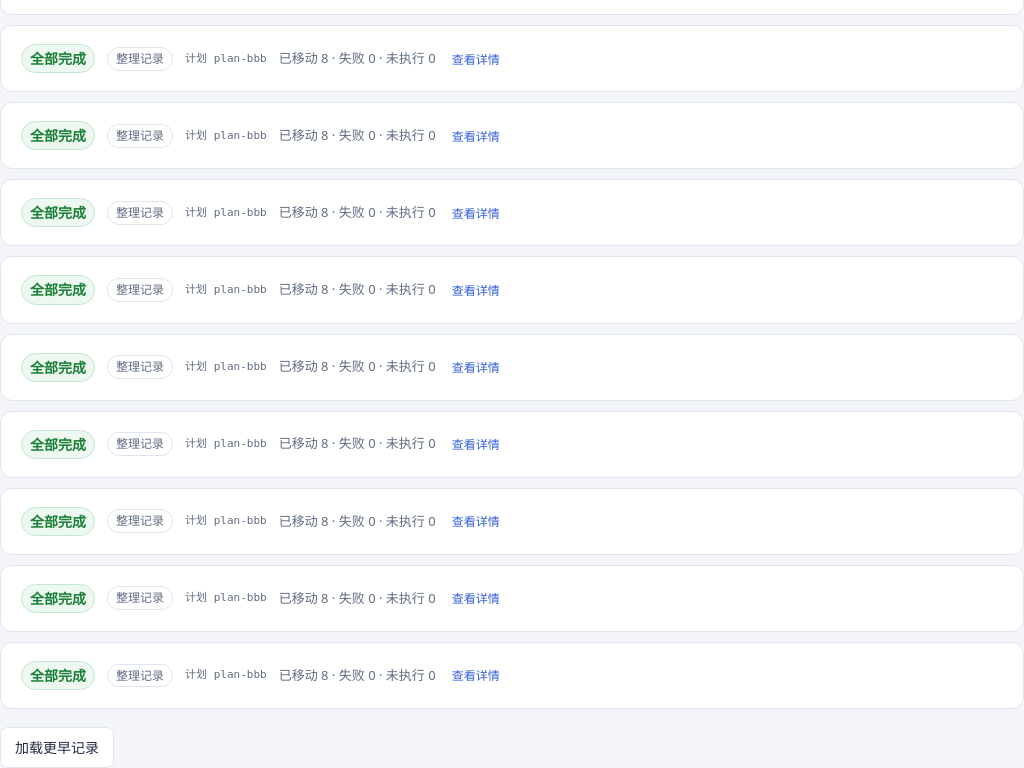
PR-003：历史明细 › 超过 50 条时可加载更早的历史记录
This screenshot has width=1024, height=768.
(page scrolled)
Step 1. Click the button "加载更早记录" → (57, 748), box x1=0 y1=727 x2=114 y2=767
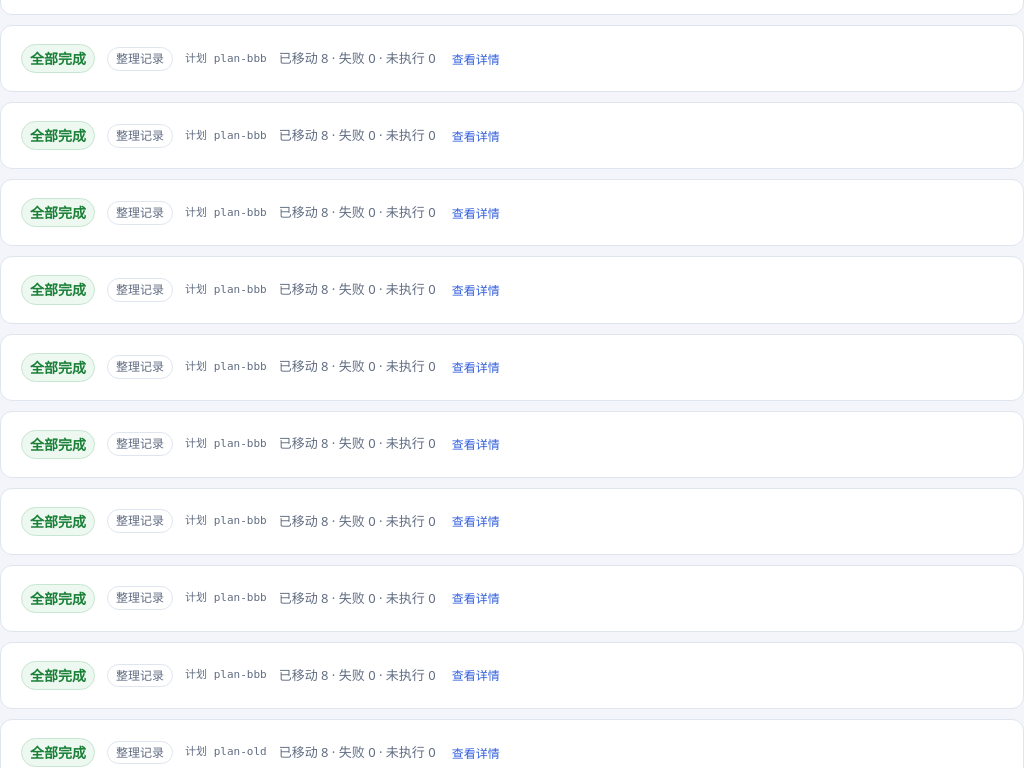
Expected: the text "计划 plan-old" is shown, x1=185 y1=743 x2=267 y2=762
